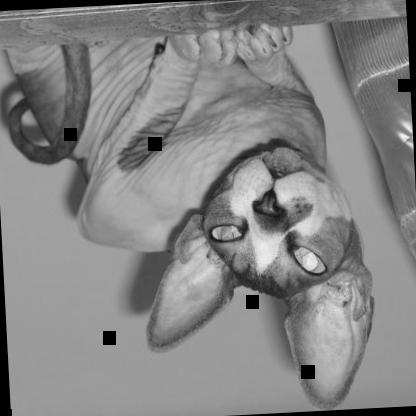cat: (0, 20, 382, 415)
